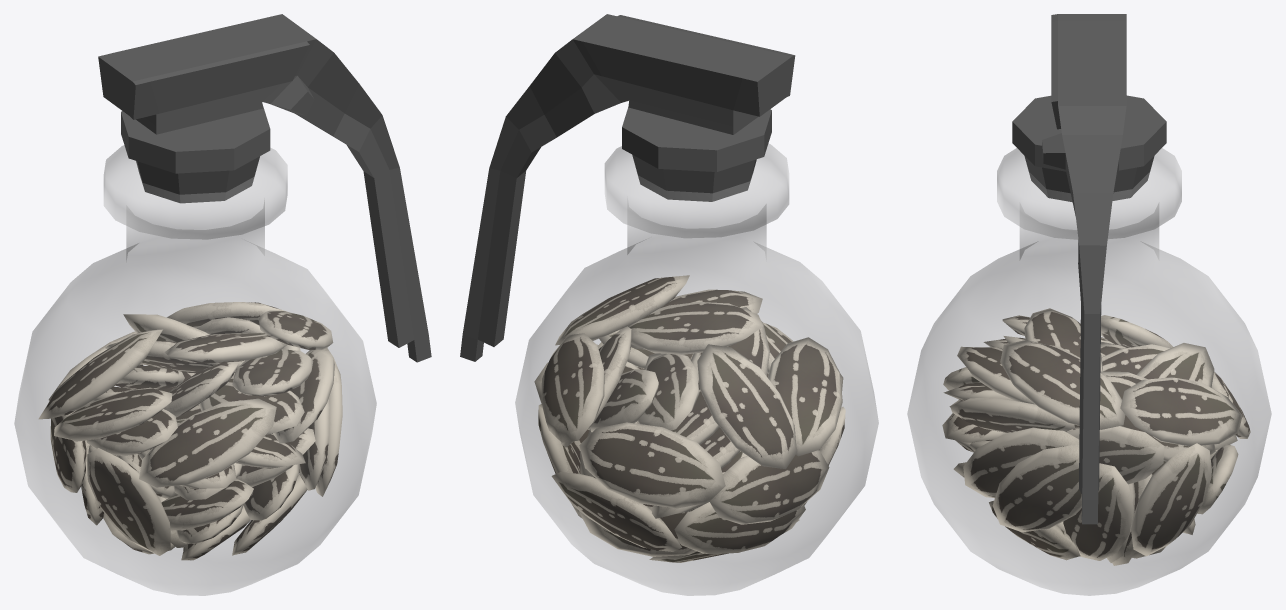
Rendered from Grenade.glb.
The picture shows the model from 3 angles, left to right: view 1: azimuth 30°, elevation 25°; view 2: azimuth 150°, elevation 25°; view 3: azimuth 270°, elevation 25°; orthographic projection.
Visible parts, largest first — view 1: Sphere, Plane.001, Cube.005, Cylinder; view 2: Sphere, Plane.001, Cube.005, Cylinder; view 3: Sphere, Plane.001, Cube.005, Cylinder.
Boxes of the visible parts, left/top/right/bottom form: Sphere: left=14, top=145, right=376, bottom=595; Plane.001: left=38, top=302, right=342, bottom=560; Cube.005: left=98, top=14, right=431, bottom=362; Cylinder: left=121, top=105, right=270, bottom=203; Sphere: left=515, top=144, right=878, bottom=595; Plane.001: left=534, top=275, right=845, bottom=562; Cube.005: left=460, top=14, right=795, bottom=361; Cylinder: left=622, top=107, right=771, bottom=201; Sphere: left=907, top=148, right=1271, bottom=595; Plane.001: left=942, top=308, right=1250, bottom=565; Cube.005: left=1042, top=14, right=1126, bottom=524; Cylinder: left=1012, top=95, right=1166, bottom=202.
Bounding box in the file's own units: 2.47 × 3.19 × 2.
3 materials, 1 textured.
